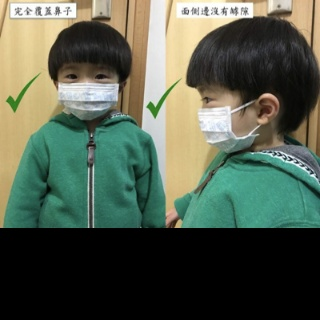with_mask: (196, 85, 260, 156), (56, 65, 120, 122)
